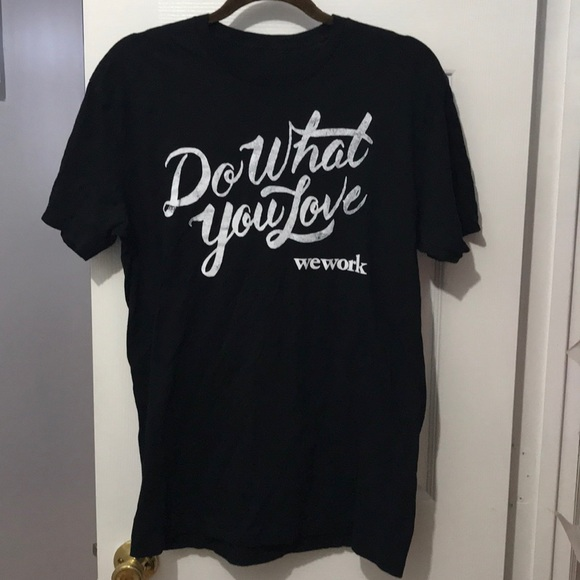wework: (291, 251, 368, 277)
